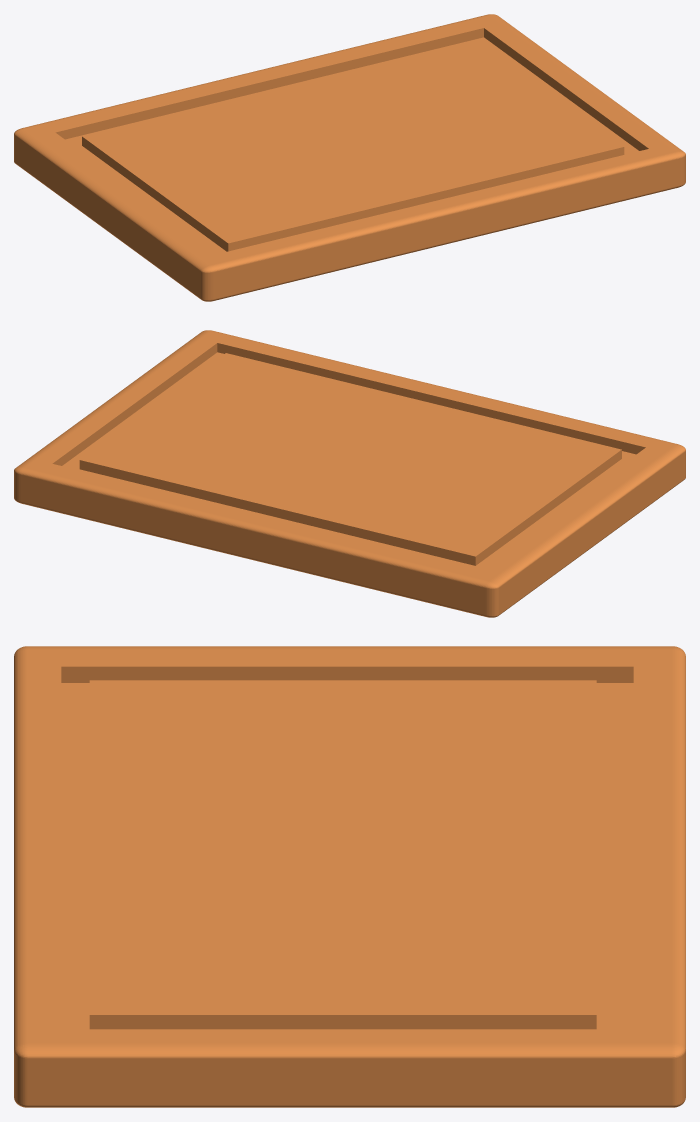
Rendered from cuttingboard.fbx.
3 views of the same model, one above another, from view 1: azimuth 30°, elevation 25°; view 2: azimuth 150°, elevation 25°; view 3: azimuth 270°, elevation 25° (orthographic). The views are drawn at different scales.
Parts seen in each view (by area): view 1: Plane; view 2: Plane; view 3: Plane.
Part boxes in pixels (<box>): Plane: <box>14,14,685,301</box>; Plane: <box>14,330,685,617</box>; Plane: <box>14,646,685,1107</box>.
Size of the model in its own units: 258 by 17.76 by 179.
